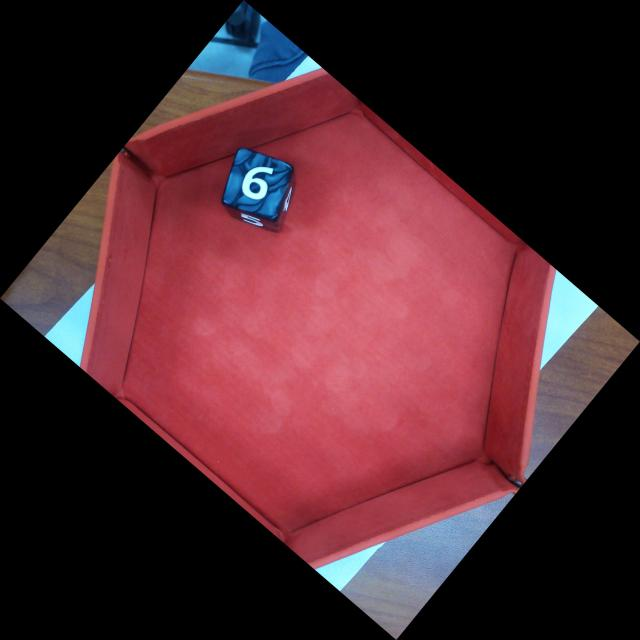dice: (222, 146, 292, 219)
